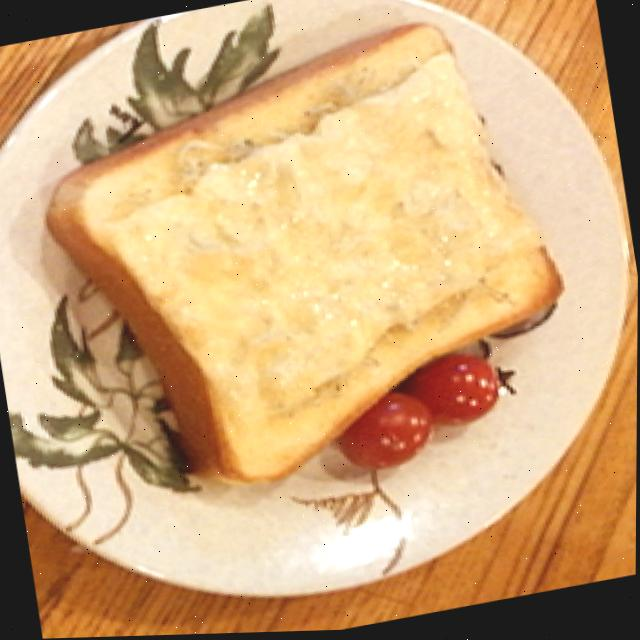面包点心: (74, 11, 600, 499)
